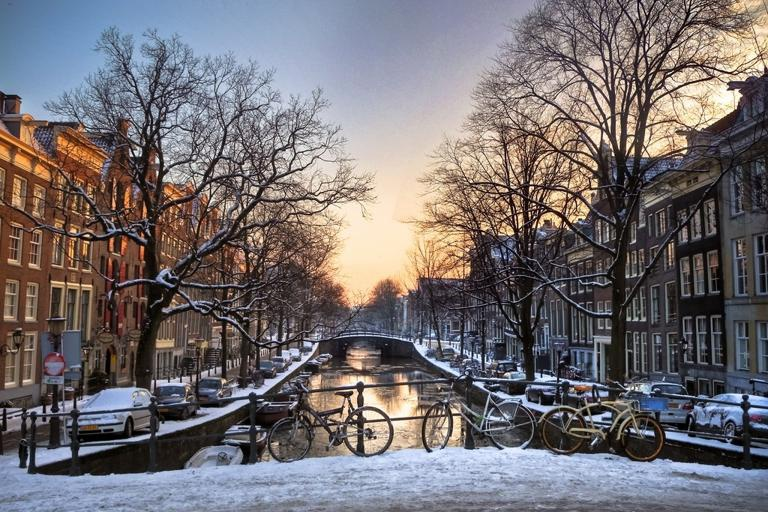non-vehicle: (262, 380, 394, 463), (417, 367, 535, 456), (536, 380, 665, 460)
